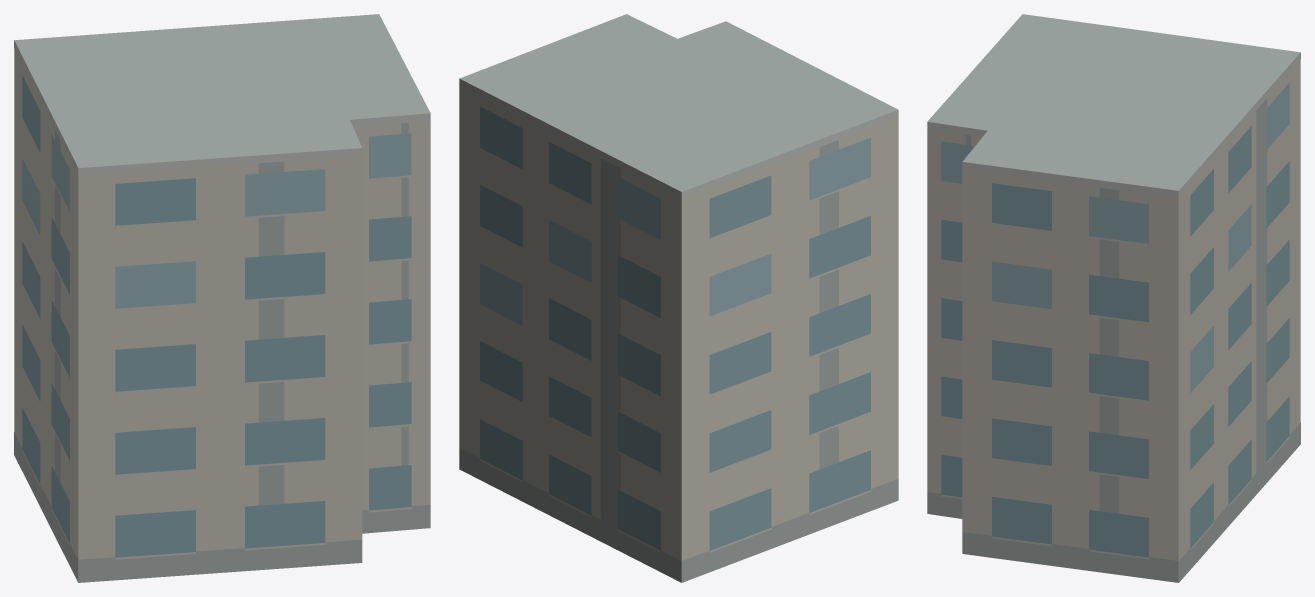
File: survey-upis-32729575.glb
3 renders of one model, left to right at view 1: azimuth 30°, elevation 25°; view 2: azimuth 150°, elevation 25°; view 3: azimuth 270°, elevation 25°, orthographic. The views are drawn at different scales.
Parts seen in each view (by area): view 1: survey-upis-32729575.tmp; view 2: survey-upis-32729575.tmp; view 3: survey-upis-32729575.tmp.
Part boxes in pixels (x1,y1,x2,y2): survey-upis-32729575.tmp: (14, 14, 430, 582); survey-upis-32729575.tmp: (459, 14, 898, 582); survey-upis-32729575.tmp: (927, 14, 1300, 582).
Bounding box in the file's own units: 12.39 × 12.8 × 11.06.
